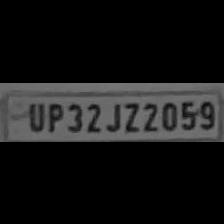0: (158, 98, 178, 130)
2: (83, 98, 103, 132), (139, 98, 159, 132)
3: (63, 98, 83, 132)
5: (178, 96, 196, 130)
9: (197, 96, 217, 130)
J: (102, 98, 122, 132)
P: (44, 100, 64, 132)
U: (23, 99, 44, 131)
Z: (120, 98, 140, 132)
